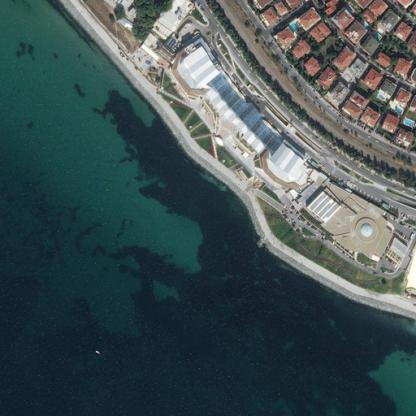ship: (89, 346, 105, 358)
